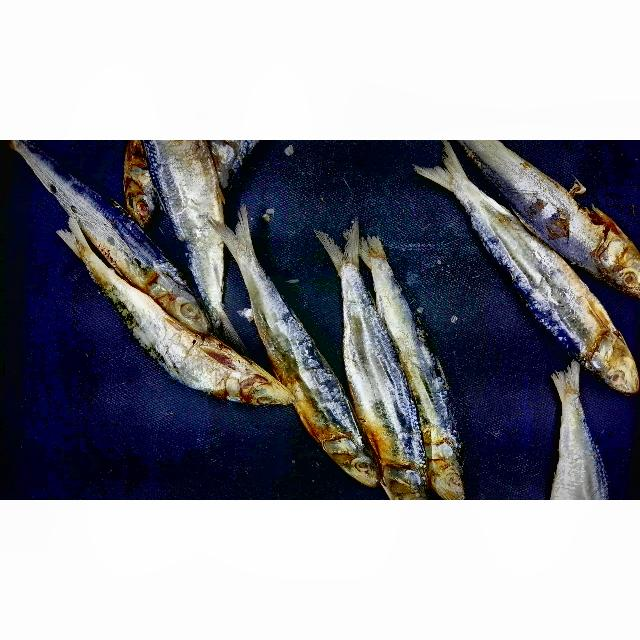Grade_B_Body: (94, 293, 228, 406), (142, 148, 244, 296), (375, 295, 469, 450), (247, 304, 358, 431), (334, 318, 435, 457), (475, 161, 608, 256), (39, 183, 168, 278)
Grade_B_Head: (584, 298, 640, 393), (230, 341, 294, 418), (309, 438, 387, 495), (599, 206, 640, 305), (167, 253, 213, 338), (117, 170, 174, 232)
